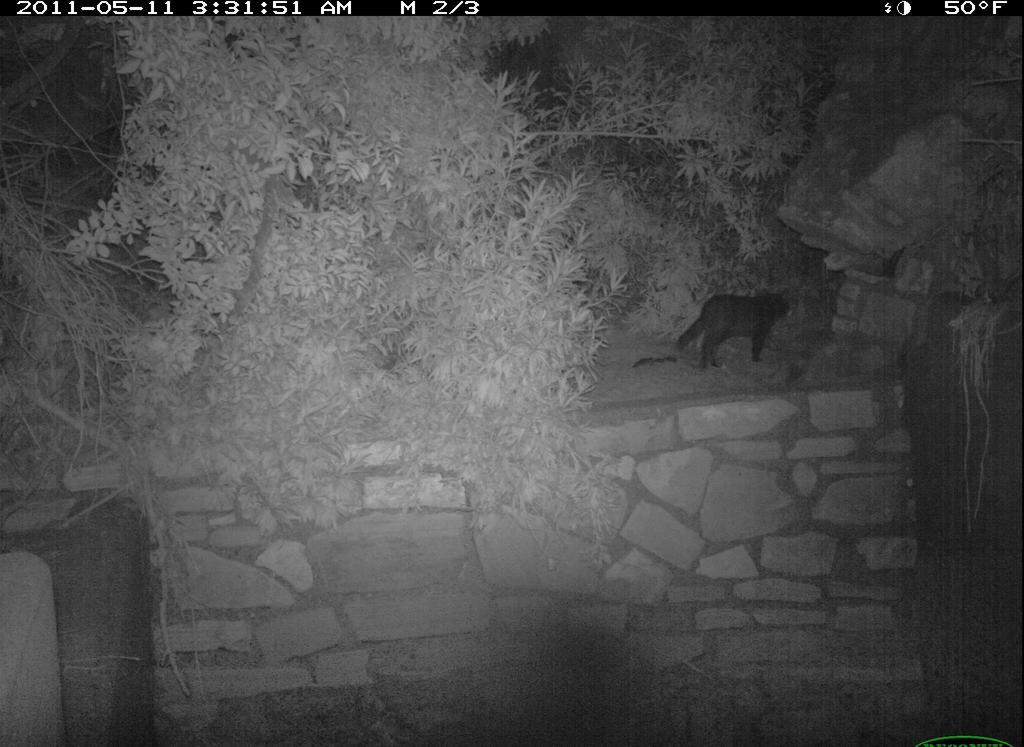cat: (673, 276, 799, 383)
